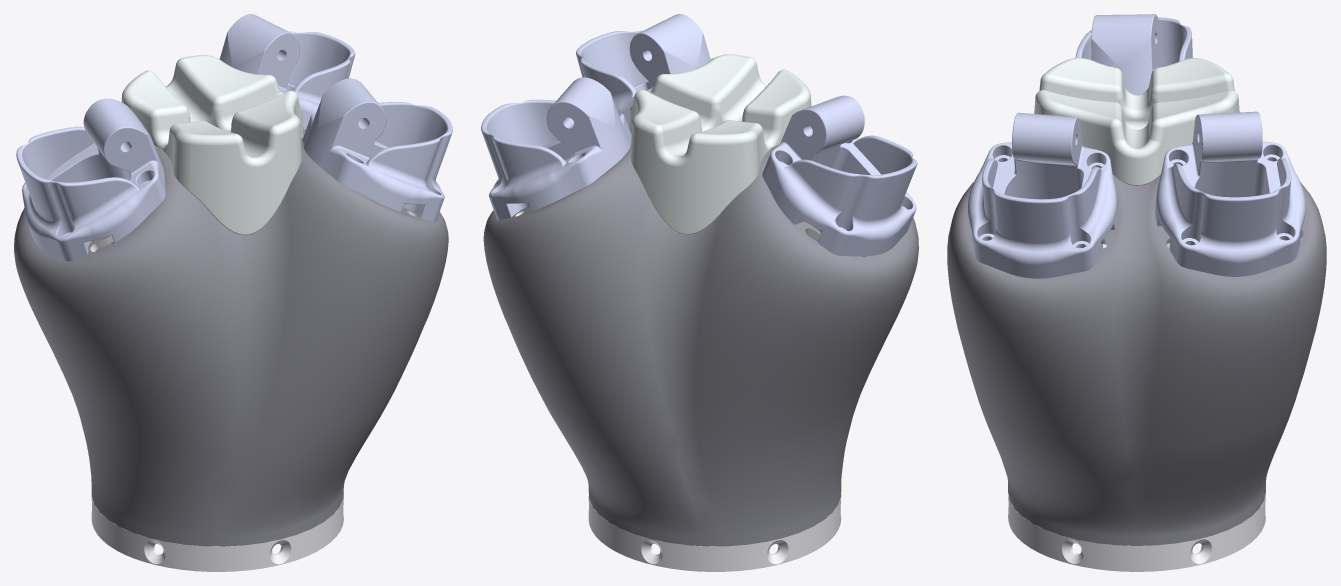
File: KINOVA_Gen2_j6.gltf
3 renders of one model, left to right at view 1: azimuth 30°, elevation 25°; view 2: azimuth 150°, elevation 25°; view 3: azimuth 270°, elevation 25°, orthographic. The views are drawn at different scales.
Visible parts, largest first — view 1: MT 0062 0003_Dfaut, MO 0000 0012_Dfaut, MI 3636 0001_Dfaut, MI 3636 0001_Dfaut001, MI 3636 0001_Dfaut002, MR 5862 0006; view 2: MT 0062 0003_Dfaut, MO 0000 0012_Dfaut, MI 3636 0001_Dfaut, MI 3636 0001_Dfaut002, MI 3636 0001_Dfaut001, MR 5862 0006; view 3: MT 0062 0003_Dfaut, MI 3636 0001_Dfaut001, MI 3636 0001_Dfaut002, MO 0000 0012_Dfaut, MR 5862 0006, MI 3636 0001_Dfaut.
Boxes of the visible parts, x1,y1,x2,y2 form: MT 0062 0003_Dfaut: (14, 129, 448, 546); MO 0000 0012_Dfaut: (121, 55, 303, 235); MI 3636 0001_Dfaut: (16, 98, 165, 261); MI 3636 0001_Dfaut001: (302, 78, 452, 221); MI 3636 0001_Dfaut002: (218, 14, 355, 129); MR 5862 0006: (91, 492, 343, 571); MT 0062 0003_Dfaut: (483, 145, 918, 546); MO 0000 0012_Dfaut: (629, 54, 811, 234); MI 3636 0001_Dfaut: (762, 95, 917, 256); MI 3636 0001_Dfaut002: (481, 77, 631, 220); MI 3636 0001_Dfaut001: (576, 14, 714, 127); MR 5862 0006: (588, 492, 841, 571); MT 0062 0003_Dfaut: (947, 175, 1326, 545); MI 3636 0001_Dfaut001: (967, 112, 1118, 278); MI 3636 0001_Dfaut002: (1155, 111, 1305, 276); MO 0000 0012_Dfaut: (1034, 58, 1239, 185); MR 5862 0006: (1008, 492, 1265, 571); MI 3636 0001_Dfaut: (1075, 14, 1192, 94).
Bounding box in the file's own units: 0.1071 × 0.1211 × 0.0928.
